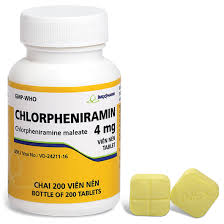Celecoxip: (14, 108, 118, 123)
